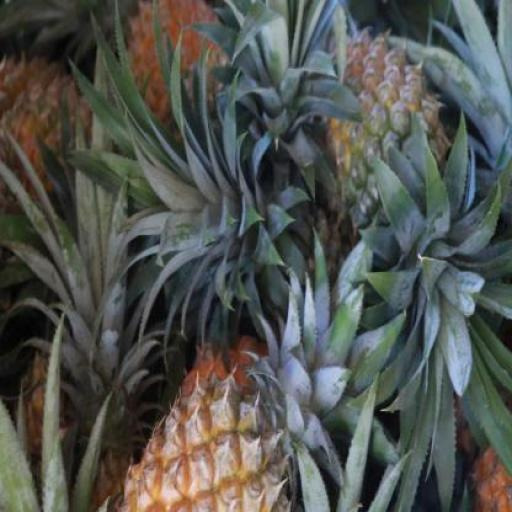------------------------------: (322, 31, 462, 241)
Pineapple - v8 v1: (114, 357, 298, 512)
